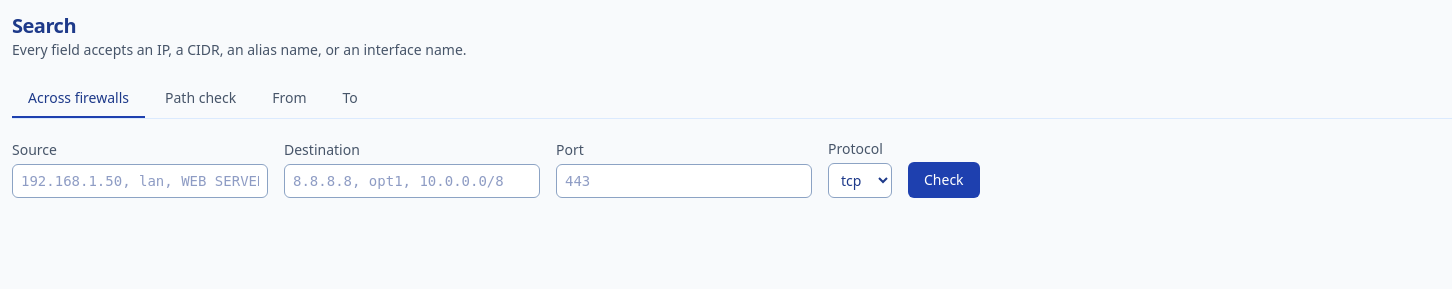
Test case: SearchPage › shows the server error instead of a blank result
Click the tab "Path check": (201, 99) [149,80,252,118]
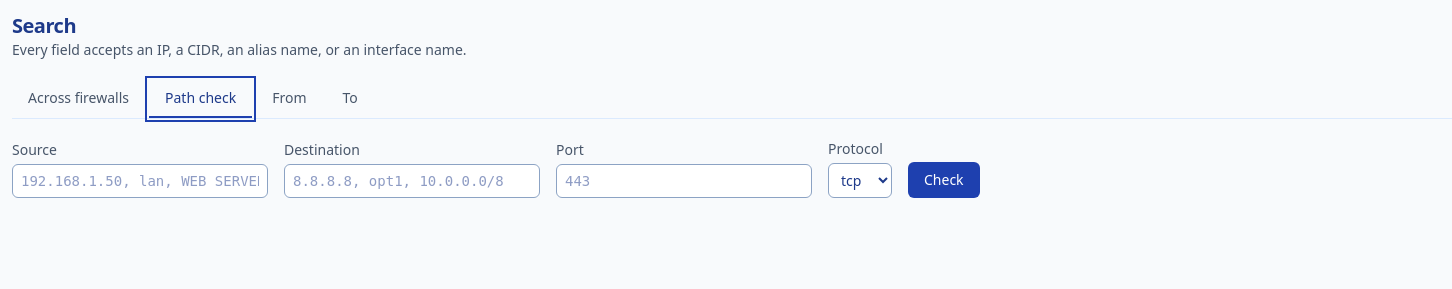
In the field labelled "Source": (140, 181) [12,164,268,198], type "nope"
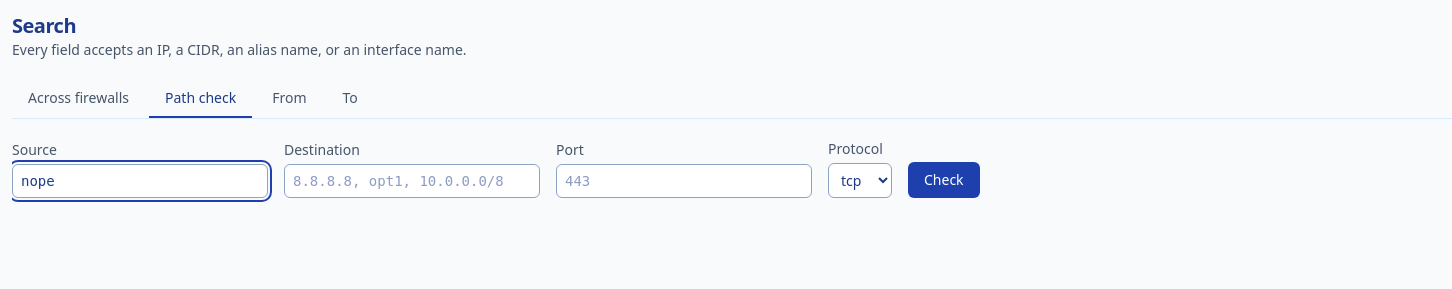
In the field labelled "Destination": (412, 181) [284,164,540,198], type "8.8.8.8"
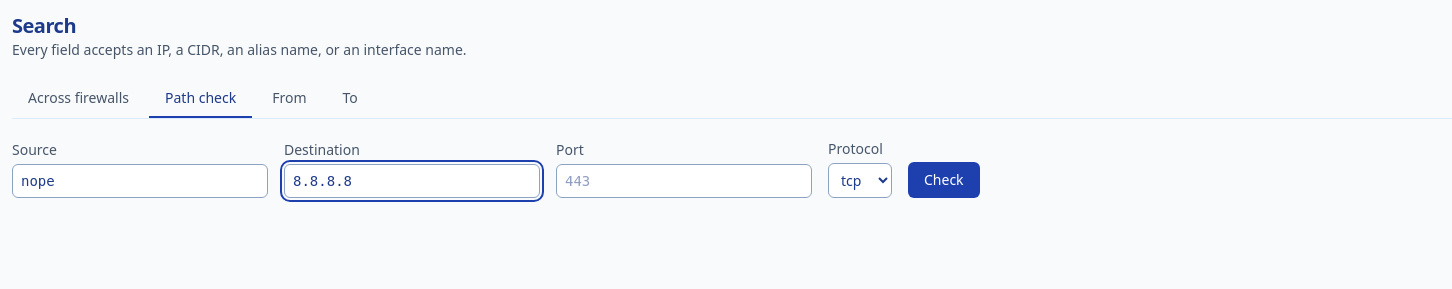
Click the button "Check": (944, 180) [908,162,980,198]
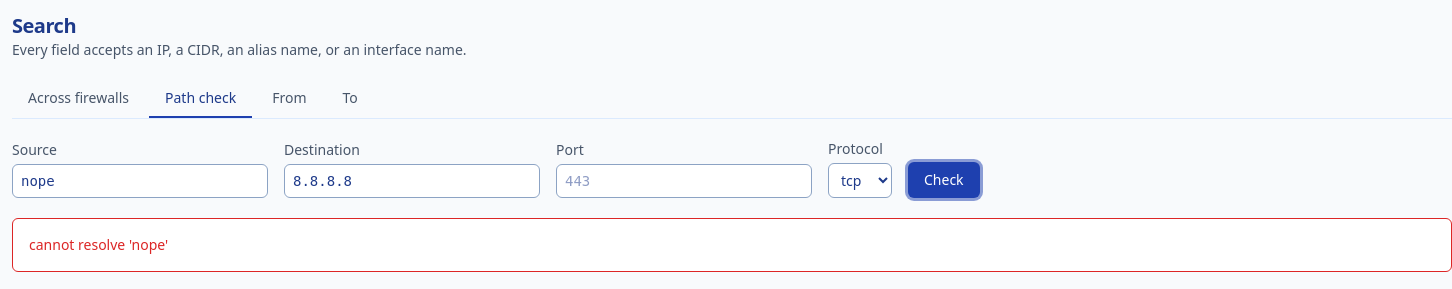
Result: the text "cannot resolve 'nope'" is shown at [12,218,1451,272]
